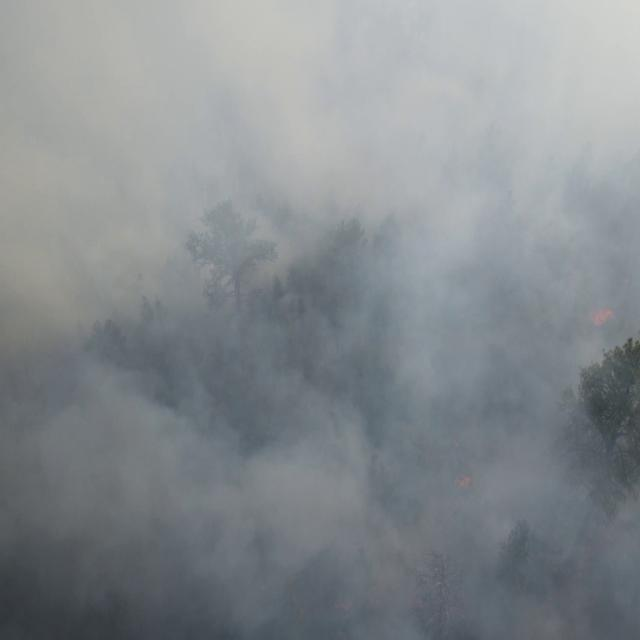fire: (334, 600, 358, 616), (452, 476, 472, 495), (591, 310, 613, 324)
smoke: (0, 0, 640, 640)
